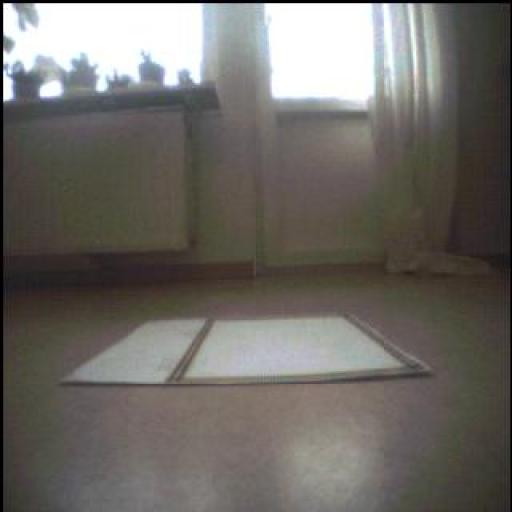Pad: (65, 315, 430, 385)
